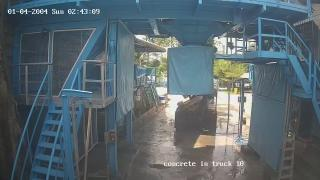cement_mixer_truck: (175, 76, 219, 130)
